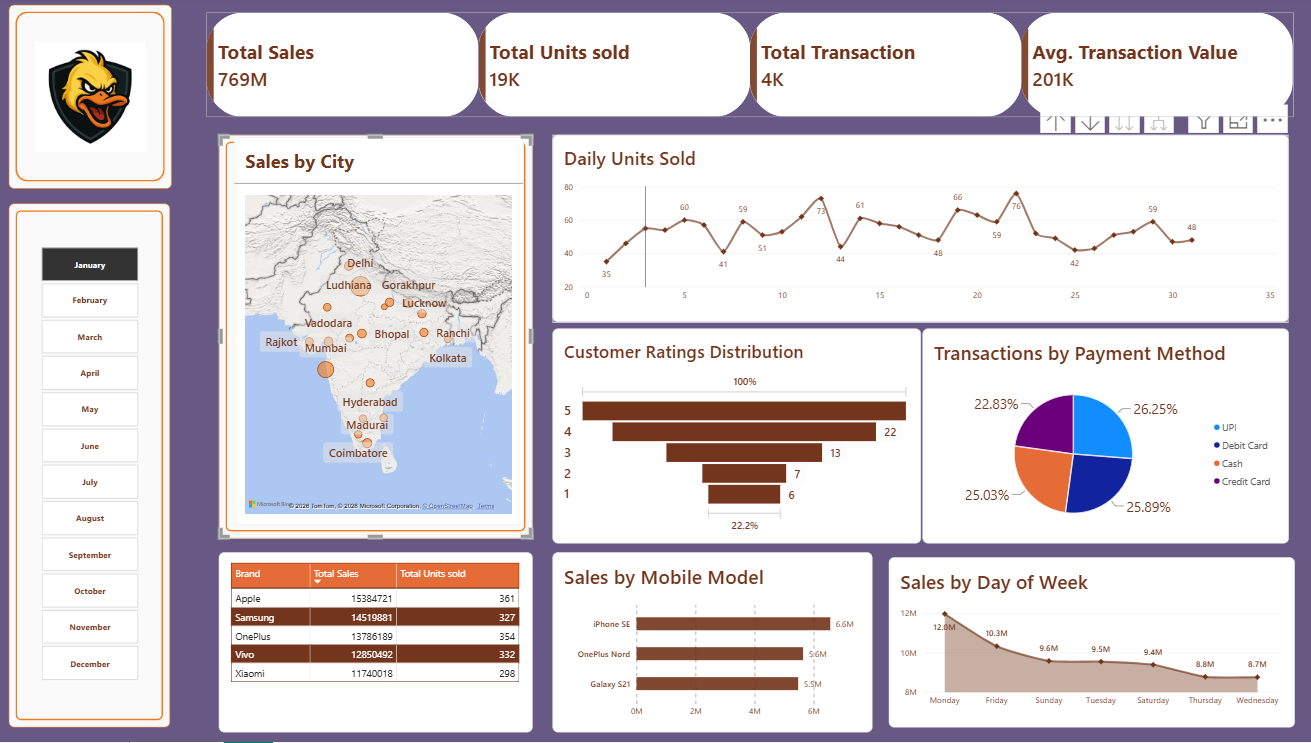

The page's visual inventory and layout, read from the dashboard file:
{"tool":"powerbi","page":{"name":"Page 1","canvas":[1920,1080],"ordinal":0},"visuals":[{"type":"shape","box":[20,300,233.4,758.2],"z":0,"group":"g2"},{"type":"shape","box":[20,12,236,266],"z":1000},{"type":"cardVisual","fields":{"Data":["sales_data.total_sales","sales_data.total_quantity","sales_data.total_transaction","sales_data.average"]},"box":[306,24,1614.2,152],"z":1000,"group":"g3"},{"type":"image","box":[58,58,160,176],"z":2000},{"type":"slicer","fields":{"Values":["sales_data.DATE.Variation.Date Hierarchy.Month"]},"box":[47.2,362.1,178.8,630],"z":3000,"group":"g2"},{"type":"shape","box":[323.9,175.5,454.2,609.9],"z":5000,"group":"g1"},{"type":"map","title":"Sales by City","fields":{"Category":["sales_data.City"],"Size":["sales_data.total_sales"]},"box":[345.2,179.5,419.8,586.3],"z":6000,"group":"g1"},{"type":"lineChart","fields":{"Category":["sales_data.DATE.Variation.Date Hierarchy.Month","sales_data.DATE.Variation.Date Hierarchy.Day"],"Y":["Sum(sales_data.Units Sold)"]},"box":[808,200,1065.9,271.4],"z":7000},{"type":"clusteredBarChart","fields":{"Category":["sales_data.Mobile Model"],"Y":["sales_data.total_sales"]},"box":[807.1,805.3,463.3,260.6],"z":8000},{"type":"pieChart","fields":{"Category":["sales_data.Payment Method"],"Y":["sales_data.total_transaction"]},"box":[1342.8,481.4,530.2,311.3],"z":9000},{"type":"funnel","fields":{"Category":["sales_data.Customer Ratings"],"Y":["CountNonNull(sales_data.Customer Ratings)"]},"box":[807.1,481.4,533.8,311.3],"z":10000},{"type":"areaChart","fields":{"Category":["sales_data.Day name"],"Y":["sales_data.total_sales"]},"box":[1293.9,812.5,588.1,246.1],"z":11000},{"type":"group","id":"g1","title":"Group 2","box":[323.9,175.5,454.2,609.9],"z":11001},{"type":"group","id":"g2","title":"Group 3","box":[20,300,234,758],"z":11002},{"type":"tableEx","fields":{"Values":["sales_data.Brand","sales_data.total_sales","sales_data.total_quantity"]},"box":[323.9,805.3,454.2,260.6],"z":11003},{"type":"group","id":"g3","title":"Group 1","box":[306,24,1614,152],"z":11004}]}

Visuals, with their boxes in screenshot pixels (x1, y1, x2, y2), scaled from the page's 1920x1080 canvas onto the 1311x743 screenshot:
shape: bbox(14, 206, 173, 728)
shape: bbox(14, 8, 175, 191)
cardVisual - sales_data.total_sales x sales_data.total_quantity: bbox(209, 17, 1310, 121)
image: bbox(40, 40, 149, 161)
slicer - sales_data.DATE.Variation.Date Hierarchy.Month: bbox(32, 249, 154, 683)
shape: bbox(221, 121, 531, 540)
"Sales by City" map: bbox(236, 123, 522, 527)
lineChart - sales_data.DATE.Variation.Date Hierarchy.Month x sales_data.DATE.Variation.Date Hierarchy.Day: bbox(552, 138, 1280, 324)
clusteredBarChart - sales_data.Mobile Model x sales_data.total_sales: bbox(551, 554, 867, 733)
pieChart - sales_data.Payment Method x sales_data.total_transaction: bbox(917, 331, 1279, 545)
funnel - sales_data.Customer Ratings x CountNonNull(sales_data.Customer Ratings): bbox(551, 331, 916, 545)
areaChart - sales_data.Day name x sales_data.total_sales: bbox(883, 559, 1285, 728)
"Group 2" group: bbox(221, 121, 531, 540)
"Group 3" group: bbox(14, 206, 173, 728)
tableEx - sales_data.Brand x sales_data.total_sales: bbox(221, 554, 531, 733)
"Group 1" group: bbox(209, 17, 1310, 121)
